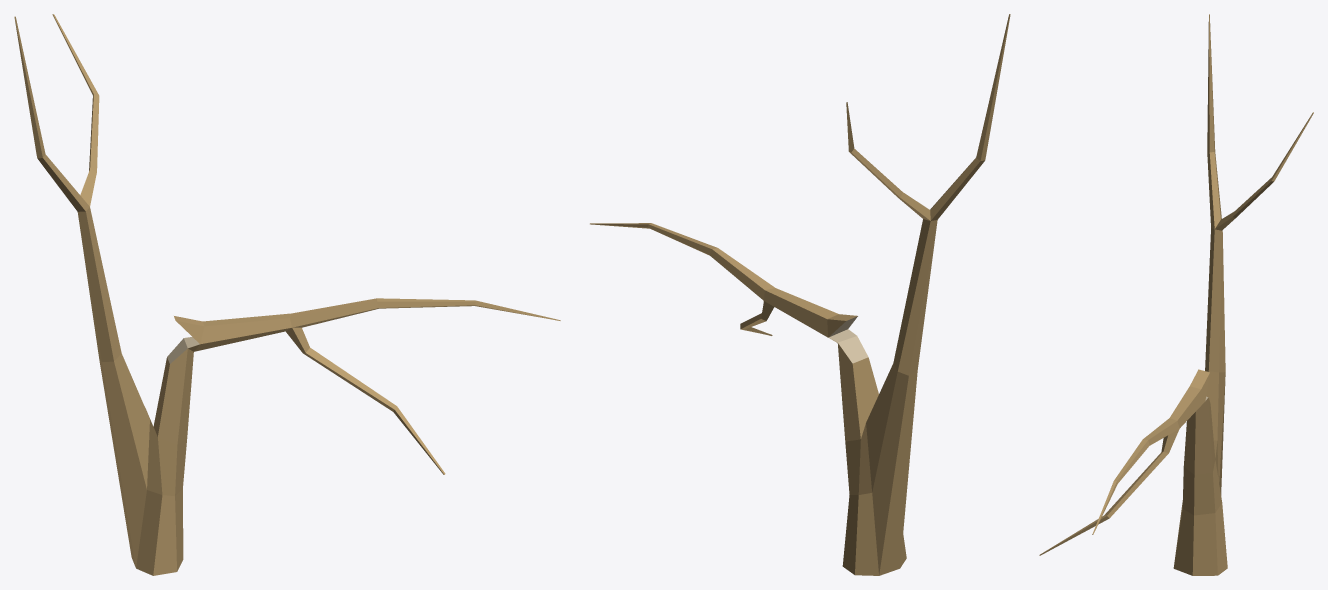
File: Apple_Tree_NoLeaves_crk_m_04_LOD.fbx
The picture shows the model from 3 angles, left to right: view 1: azimuth 30°, elevation 25°; view 2: azimuth 150°, elevation 25°; view 3: azimuth 270°, elevation 25°; orthographic projection. The views are drawn at different scales.
Visible parts, largest first — view 1: Apple_Tree_NoLeaves_crk_m_04_LOD0; view 2: Apple_Tree_NoLeaves_crk_m_04_LOD0; view 3: Apple_Tree_NoLeaves_crk_m_04_LOD0.
Part boxes in pixels (bbox=[...]): Apple_Tree_NoLeaves_crk_m_04_LOD0: bbox=[14, 14, 560, 575]; Apple_Tree_NoLeaves_crk_m_04_LOD0: bbox=[590, 14, 1010, 575]; Apple_Tree_NoLeaves_crk_m_04_LOD0: bbox=[1039, 14, 1313, 575].
Size of what is drawn, in the model's own units: 524 by 601 by 303.
